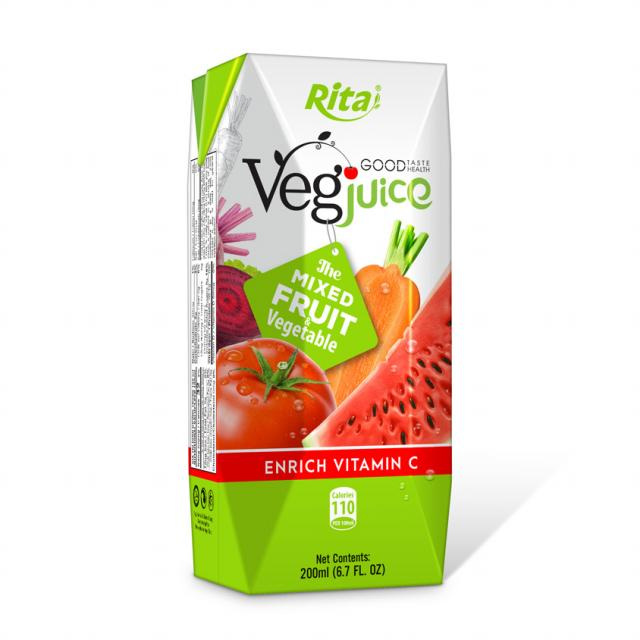non_white_jug: (173, 39, 461, 592)
